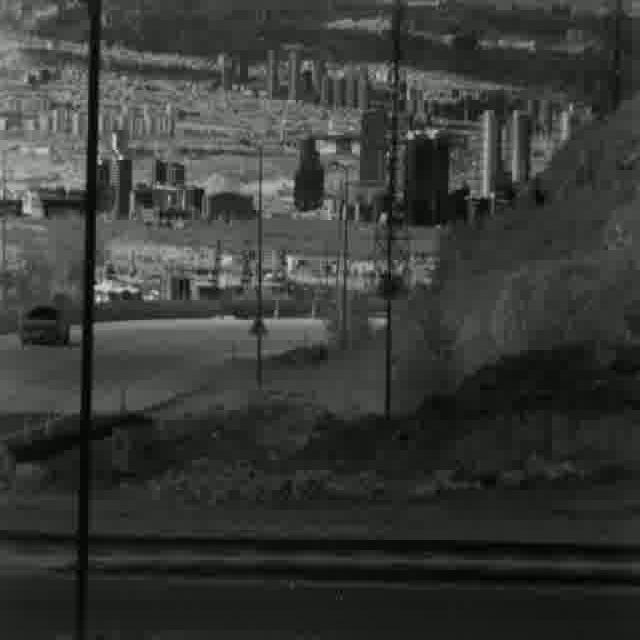Car: (20, 299, 70, 349)
